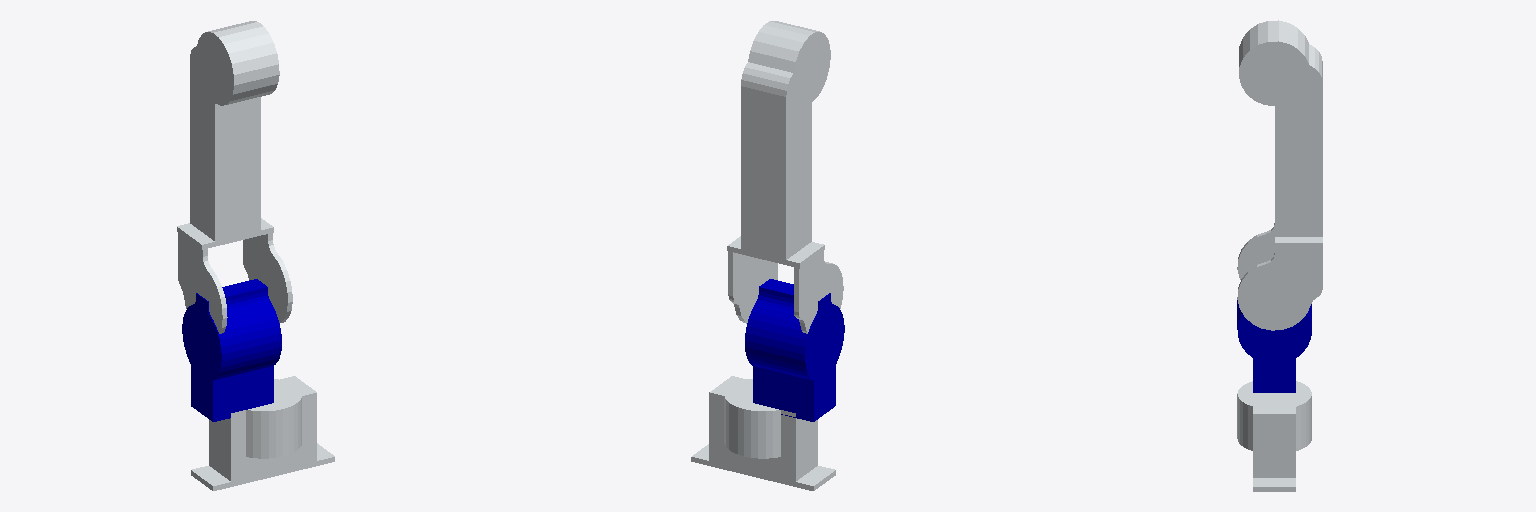
URDF robot description (6dof):
<?xml version="1.0" encoding="utf-8"?>
<robot
  name="6dof">
  
  <link name="world"/>

  <joint name="fixed" type="fixed">
    <origin rpy="0 0 0" xyz="2 0 0"/>
    <parent link="world"/>
    <child link="base"/>
  </joint>
  
  <!-- base -->
  <link
    name="base">
    <inertial>
      <origin
        xyz="-0.000347374556861547 0.000101207333103441 0.0782524999724827"
        rpy="0 0 0" />
      <mass
        value="2.98839561693632" />
      <inertia
        ixx="0.00853888049906063"
        ixy="1.32639418659869E-06"
        ixz="-5.10062501073997E-05"
        iyy="0.0148391707873313"
        iyz="-7.38801973712153E-06"
        izz="0.0112310816428658" />
    </inertial>
    
    <visual>
      <origin
        xyz="0 0 0"
        rpy="0 0 0" />
      <geometry>
        <mesh
          filename="meshes_simple\base.obj" scale ="0.001 0.001 0.001"/>
      </geometry>
      <material
        name="">
        <color
          rgba="0.898039215686275 0.917647058823529 0.929411764705882 1" />
      </material>
    </visual>
    <collision>
      <origin
        xyz="0 0 0"
        rpy="0 0 0" />
      <geometry>
        <mesh
          filename="meshes_simple\base.obj" scale ="0.001 0.001 0.001"/>
      </geometry>
      <material name="steel">
        <contact name="steel"/>
      </material>
    </collision>
  </link>
  
  <!-- link1 -->
  <link
    name="link1">
    <inertial>
      <origin
        xyz="-0.00172366771693358 -2.55178151346815E-05 0.133968888509977"
        rpy="0 0 0" />
      <mass
        value="3.30743881556333" />
      <inertia
        ixx="0.0137983780124978"
        ixy="5.47986713037484E-06"
        ixz="0.000178679862765163"
        iyy="0.0153291542700041"
        iyz="-1.59398381387562E-06"
        izz="0.00899596989685085" />
    </inertial>
    <visual>
      <origin
        xyz="0 0 0"
        rpy="-1.5707963267948966192313216916398 0 0" />
      <geometry>
        <mesh
          filename="meshes_simple\link1.obj" scale ="0.001 0.001 0.001"/>
      </geometry>
      <material
        name="">
        <color
          rgba="0 0 0.8 1" />
      </material>
    </visual>
    <collision>
      <origin
        xyz="0 0 0"
        rpy="-1.5707963267948966192313216916398 0 0" />
      <geometry>
        <mesh
          filename="meshes_simple\link1.obj" scale ="0.001 0.001 0.001"/>
      </geometry>
      <material name="steel">
        <contact name="steel"/>
      </material>
    </collision>
  </link>
  
  <!-- joint1 -->
  <joint
    name="joint1"
    type="continuous">
    <origin
      xyz="0 0 0.135"
      rpy="1.5707963267948966192313216916398 0 0" />
    <parent
      link="base" />
    <child
      link="link1" />
    <axis
      xyz="0 1 0" />
    <limit
      lower="0"
      upper="0"
      effort="0"
      velocity="0" />
  </joint>
  
  <!-- link2 -->
  <link
    name="link2">
    <inertial>
      <origin
        xyz="0.0062635082635212 0.0195692461832506 0.281532730459941"
        rpy="0 0 0" />
      <mass
        value="3.97302477404015" />
      <inertia
        ixx="0.139145612346073"
        ixy="0.000105721459127739"
        ixz="-0.000331195352477424"
        iyy="0.140863892395562"
        iyz="0.0077917679287208"
        izz="0.0129377782724841" />
    </inertial>
    <visual>
      <origin
        xyz="0 0 0"
        rpy="-1.5707963267948966192313216916398 0 0" />
      <geometry>
        <mesh
          filename="meshes_simple\link2.obj" scale ="0.001 0.001 0.001"/>
      </geometry>
      <material
        name="">
        <color
          rgba="0.898039215686275 0.917647058823529 0.929411764705882 1" />
      </material>
    </visual>
    <collision>
      <origin
        xyz="0 0 0"
        rpy="-1.5707963267948966192313216916398 0 0" />
      <geometry>
        <mesh
          filename="meshes_simple\link2.obj" scale ="0.001 0.001 0.001"/>
      </geometry>
      <material name="steel">
        <contact name="steel"/>
      </material>
    </collision>
  </link>
  
  <!-- joint2 -->
  <joint
    name="joint2"
    type="continuous">
    <origin
      xyz="0 0.149 0"
      rpy="0 0 0" />
    <parent
      link="link1" />
    <child
      link="link2" />
    <axis
      xyz="1 0 0" />
  </joint>

</robot>

--- What the picture shows (computed from the rendered views, not written in the file) ---
The picture shows the robot from 3 angles, left to right: view 1: azimuth 30°, elevation 25°; view 2: azimuth 150°, elevation 25°; view 3: azimuth 270°, elevation 25°; orthographic projection.
Robot: 6dof — 4 links, 3 joints (2 continuous, 1 fixed); root link world; default pose: all joints at 0.
Visible links, largest first — view 1: link2, link1, base; view 2: link2, link1, base; view 3: link2, base, link1.
Boxes of the visible links, x1,y1,x2,y2 form: link2: (177,21,292,333); link1: (182,279,281,421); base: (191,376,334,490); link2: (727,21,843,333); link1: (745,279,844,421); base: (691,376,835,490); link2: (1237,20,1322,330); base: (1237,381,1311,491); link1: (1237,300,1311,392).
Bounding box of the posed robot: 0.25 × 0.16 × 0.871 m (x, y, z).
Meshes: 3 distinct files referenced, 3 mesh visuals loaded (3 OBJ).